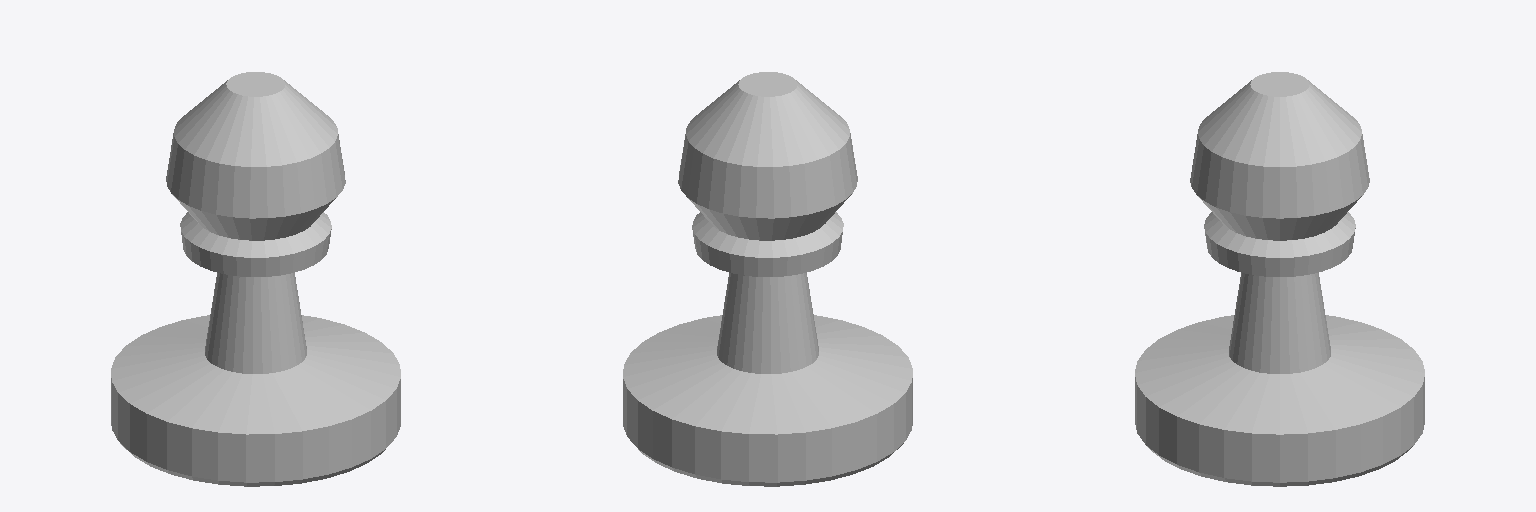
The model's file is Pawn_Black.obj.
3 views of the same model, side by side, from view 1: azimuth 30°, elevation 25°; view 2: azimuth 150°, elevation 25°; view 3: azimuth 270°, elevation 25° (orthographic).
Parts seen in each view (by area): view 1: ChessPawn; view 2: ChessPawn; view 3: ChessPawn.
Boxes of the visible parts, box(x1,y1,x2,y2) form: ChessPawn: box(111, 72, 400, 486); ChessPawn: box(623, 72, 912, 486); ChessPawn: box(1135, 72, 1424, 486).
Size of the model in its own units: 1.4 by 1.83 by 1.4.